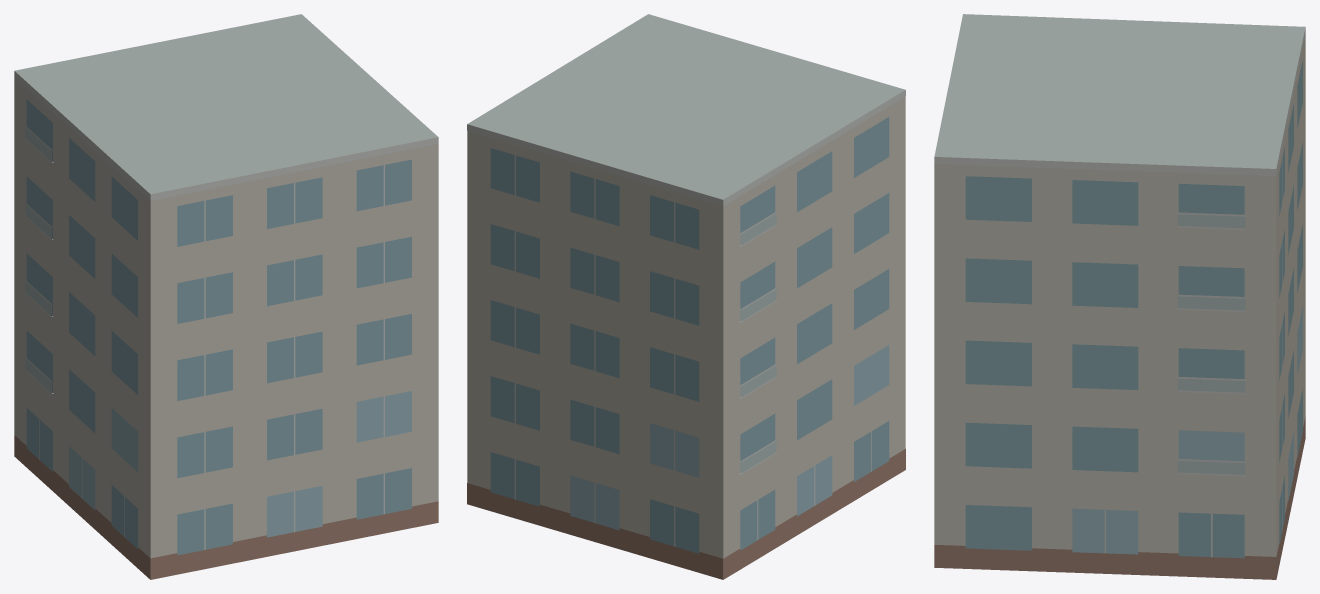
The model's file is survey-upis-32671878.glb.
3 renders of one model, left to right at view 1: azimuth 30°, elevation 25°; view 2: azimuth 150°, elevation 25°; view 3: azimuth 270°, elevation 25°, orthographic. The views are drawn at different scales.
Parts seen in each view (by area): view 1: survey-upis-32671878.tmp; view 2: survey-upis-32671878.tmp; view 3: survey-upis-32671878.tmp.
Boxes of the visible parts, bbox=[...] form: survey-upis-32671878.tmp: bbox=[14, 14, 438, 579]; survey-upis-32671878.tmp: bbox=[467, 14, 905, 579]; survey-upis-32671878.tmp: bbox=[934, 14, 1305, 579].
Size of the model in its own units: 11.42 by 14.1 by 11.56.
